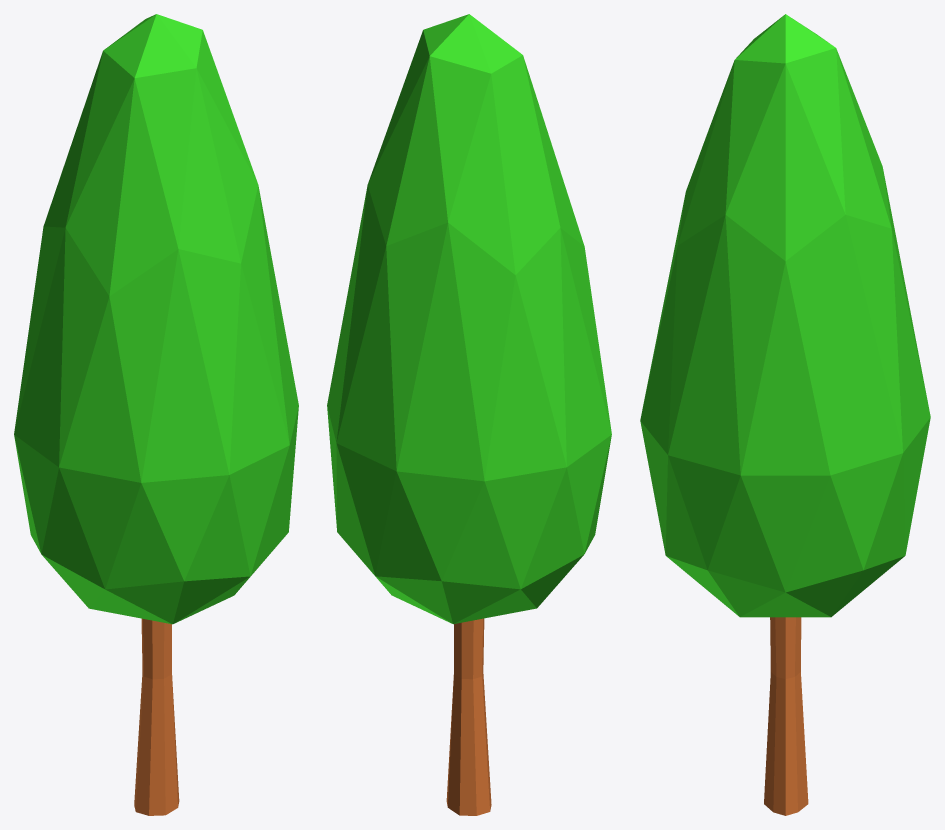
The model's file is trees_4.fbx.
3 views of the same model, side by side, from view 1: azimuth 30°, elevation 25°; view 2: azimuth 150°, elevation 25°; view 3: azimuth 270°, elevation 25° (orthographic).
Visible parts, largest first — view 1: 4.001; view 2: 4.001; view 3: 4.001.
Boxes of the visible parts, <box> form: 4.001: <box>14,14,298,815</box>; 4.001: <box>327,14,611,815</box>; 4.001: <box>640,14,930,815</box>.
Size of the model in its own units: 1.86 by 5.89 by 1.96.
